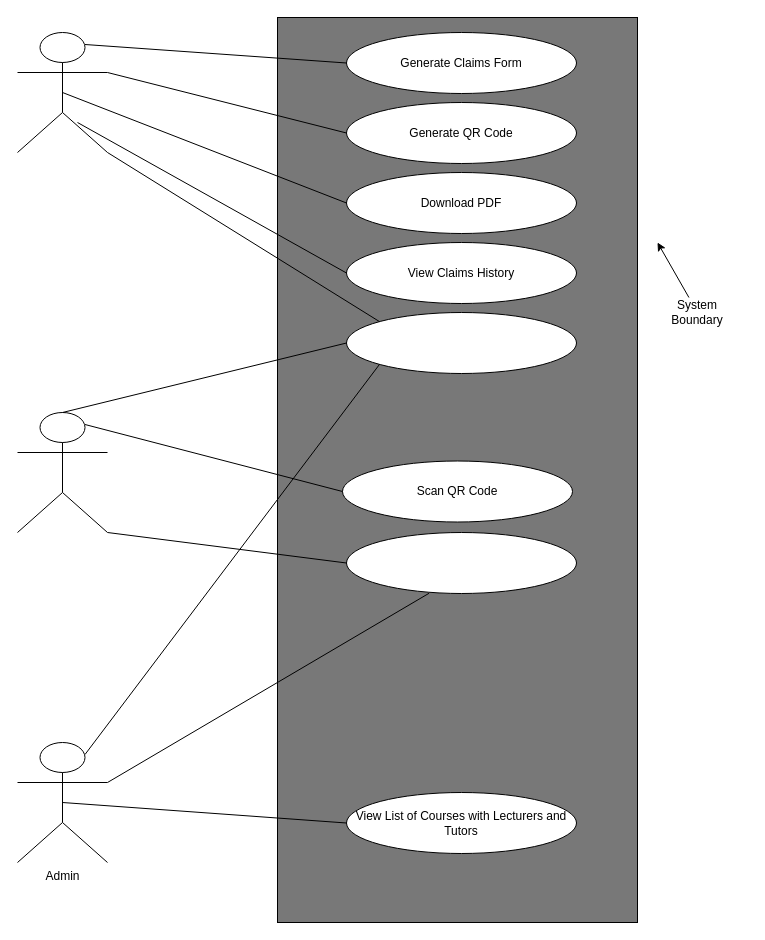
Image size: 765x940. Some labels were removed from this diagram. Each missing label, with the box of its shape:
Lecturer: (16, 412, 108, 532)
Tutor: (16, 32, 108, 152)
View List of Tutors: (346, 532, 576, 594)
View Profile: (346, 312, 576, 374)
